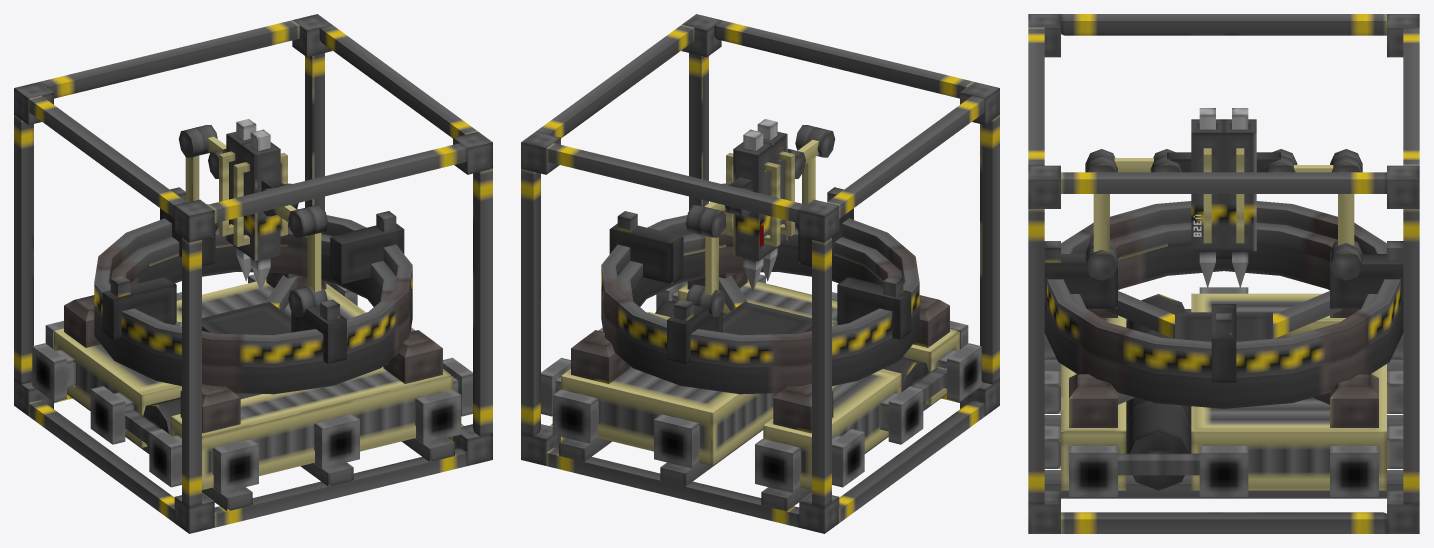
The model's file is precass.obj.
3 renders of one model, left to right at view 1: azimuth 30°, elevation 25°; view 2: azimuth 150°, elevation 25°; view 3: azimuth 270°, elevation 25°, orthographic. The views are drawn at different scales.
Visible parts, largest first — view 1: Base, Frame, Ring, Ring2, Head1, Head2, ArmLower1, ArmLower2, ArmUpper1, Spike1, Spike2; view 2: Base, Frame, Ring, Ring2, Head2, ArmLower2, Head1, ArmUpper1, ArmLower1, Spike2, Spike1, ArmUpper2; view 3: Base, Frame, Ring, Head1, Head2, ArmLower1, Ring2, ArmLower2, ArmUpper2, ArmUpper1, Spike1, Spike2.
Part boxes in pixels (<box>): Base: <box>14,245,492,533</box>; Frame: <box>14,14,492,507</box>; Ring: <box>94,187,412,367</box>; Ring2: <box>102,211,404,339</box>; Head1: <box>233,142,298,261</box>; Head2: <box>208,131,250,250</box>; ArmLower1: <box>304,205,328,305</box>; ArmLower2: <box>179,128,205,202</box>; ArmUpper1: <box>261,187,315,237</box>; Spike1: <box>250,129,270,292</box>; Spike2: <box>236,119,256,281</box>; Base: <box>521,245,999,533</box>; Frame: <box>521,14,999,507</box>; Ring: <box>601,187,919,367</box>; Ring2: <box>609,211,911,339</box>; Head2: <box>726,142,780,261</box>; ArmLower2: <box>698,208,725,316</box>; Head1: <box>763,131,794,250</box>; ArmUpper1: <box>787,128,834,178</box>; ArmLower1: <box>795,125,818,230</box>; Spike2: <box>743,129,763,292</box>; Spike1: <box>757,119,777,281</box>; ArmUpper2: <box>685,183,734,234</box>; Base: <box>1028,244,1419,533</box>; Frame: <box>1028,14,1419,504</box>; Ring: <box>1044,201,1403,378</box>; Head1: <box>1150,119,1223,251</box>; Head2: <box>1224,119,1297,251</box>; ArmLower1: <box>1085,156,1117,280</box>; Ring2: <box>1211,251,1236,382</box>; ArmLower2: <box>1330,149,1362,258</box>; ArmUpper2: <box>1266,156,1362,172</box>; ArmUpper1: <box>1085,149,1175,172</box>; Spike1: <box>1199,108,1215,287</box>; Spike2: <box>1232,108,1248,287</box>.
Size of the model in its own units: 3 by 3 by 3.
